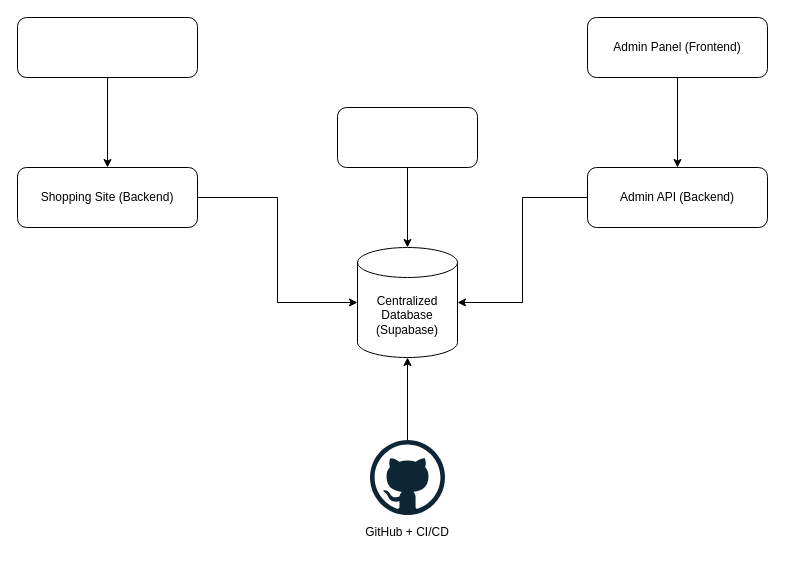
This 785x565 diagram has some shape labels left out. Here are the shapes that lost their labels. From the top down, the box of each, then its label:
(16, 16, 198, 78): Shopping Site (Frontend)
(336, 106, 478, 168): Automation Workflows (n8n)
